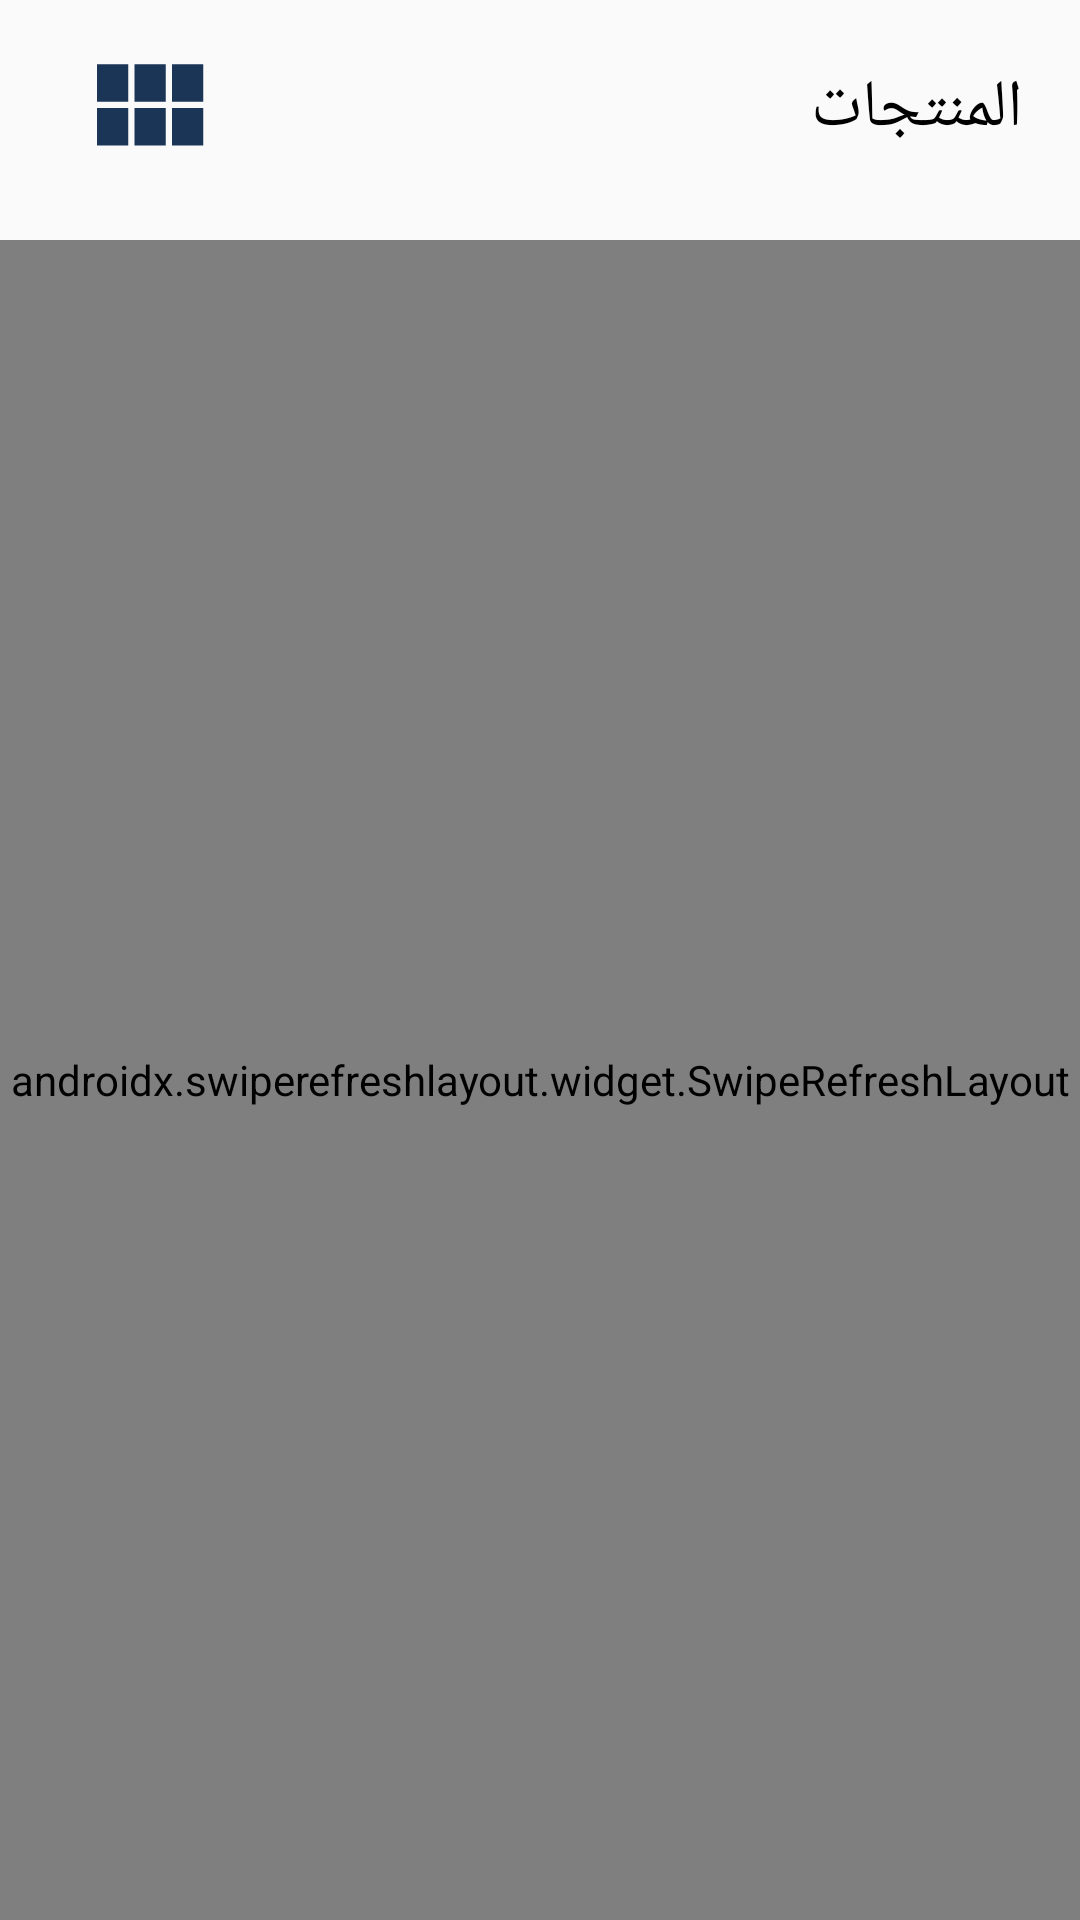

Screen size 1080*1920. Icon name, then its box in pixels as {"x1": x1, "y1": y1, "x2": x2, "y2": y2}:
view module: {"x1": 97, "y1": 64, "x2": 204, "y2": 146}
